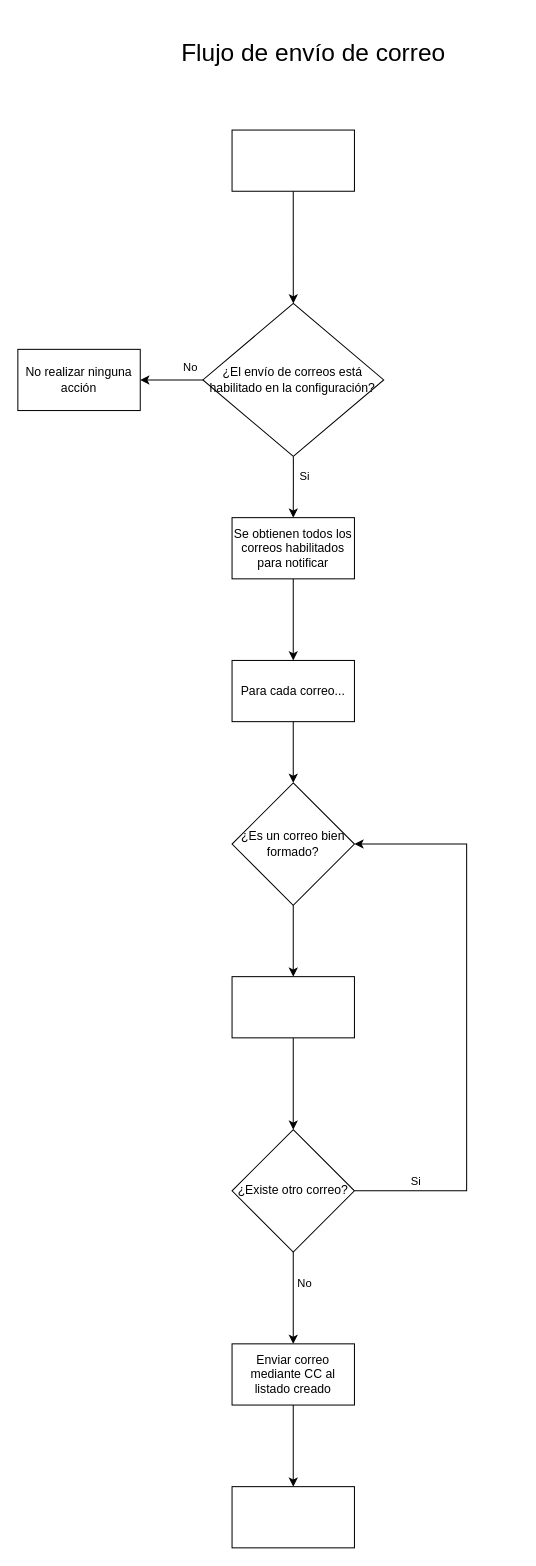
This 536x1566 diagram has some shape labels left out. The centre of each missing label's shape, as x and y in pixels:
"Fin" goes at pixel 292 1517.
"Guardar en listado de correos" goes at pixel 292 1007.
"Usuario crea un post" goes at pixel 292 160.
